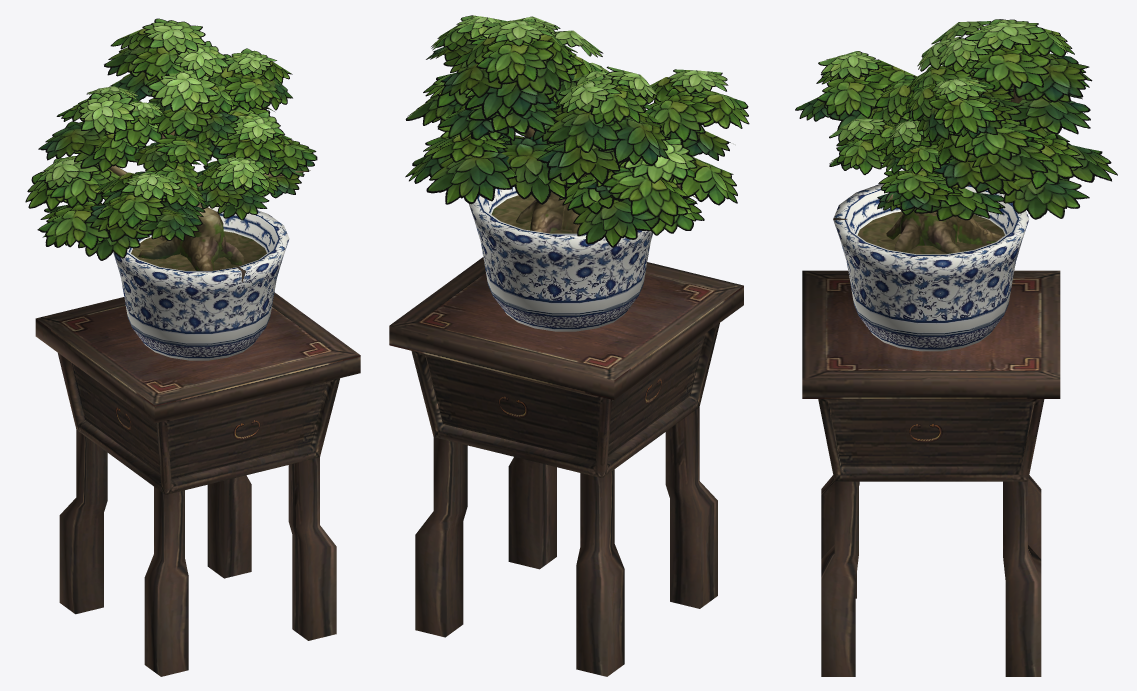
File: Sark_7.FBX
The picture shows the model from 3 angles, left to right: view 1: azimuth 30°, elevation 25°; view 2: azimuth 150°, elevation 25°; view 3: azimuth 270°, elevation 25°; orthographic projection. The views are drawn at different scales.
Parts seen in each view (by area): view 1: Sark_7, Sark_7_l; view 2: Sark_7, Sark_7_l; view 3: Sark_7, Sark_7_l.
Boxes of the visible parts, x1,y1,x2,y2 form: Sark_7: (35, 131, 360, 676); Sark_7_l: (25, 18, 317, 260); Sark_7: (389, 92, 743, 676); Sark_7_l: (405, 15, 749, 247); Sark_7: (802, 85, 1060, 676); Sark_7_l: (795, 19, 1117, 220).
Bounding box in the file's own units: 33.06 × 63.33 × 31.83.
